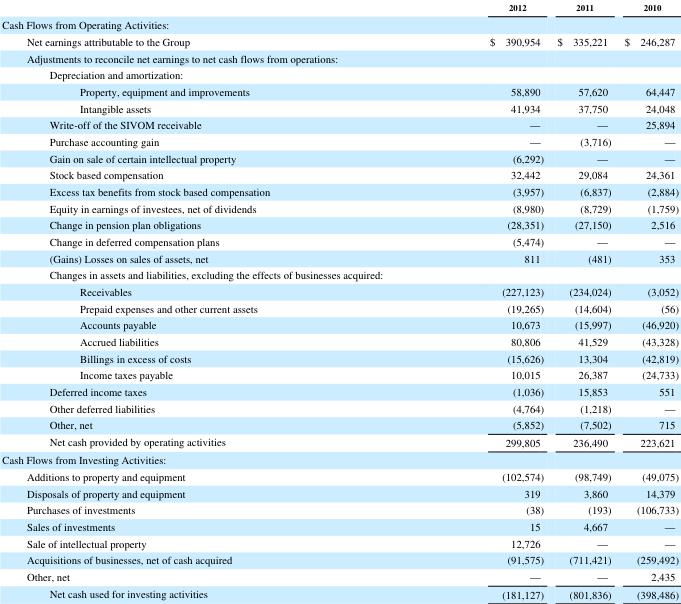table: (1, 0, 678, 600)
table column: (1, 0, 379, 600), (379, 0, 549, 600), (549, 0, 617, 600), (617, 0, 678, 600)
table column header: (1, 0, 678, 14)
table projected row header: (1, 14, 678, 32), (1, 65, 678, 82), (1, 265, 678, 282), (1, 450, 678, 467), (1, 49, 678, 65)
table row: (1, 14, 678, 32), (1, 432, 678, 450), (1, 32, 678, 49), (1, 65, 678, 82), (1, 82, 678, 99), (1, 115, 678, 132), (1, 132, 678, 149), (1, 165, 678, 182), (1, 182, 678, 199), (1, 215, 678, 232), (1, 232, 678, 249), (1, 265, 678, 282), (1, 282, 678, 299), (1, 315, 678, 332), (1, 332, 678, 349), (1, 365, 678, 382), (1, 382, 678, 399), (1, 415, 678, 432), (1, 450, 678, 467), (1, 467, 678, 484), (1, 500, 678, 517), (1, 517, 678, 534), (1, 550, 678, 567), (1, 567, 678, 584), (1, 49, 678, 65), (1, 99, 678, 115), (1, 149, 678, 165), (1, 199, 678, 215), (1, 249, 678, 265), (1, 299, 678, 315), (1, 349, 678, 365), (1, 399, 678, 415), (1, 484, 678, 500), (1, 534, 678, 550), (1, 584, 678, 600), (1, 0, 678, 14)
